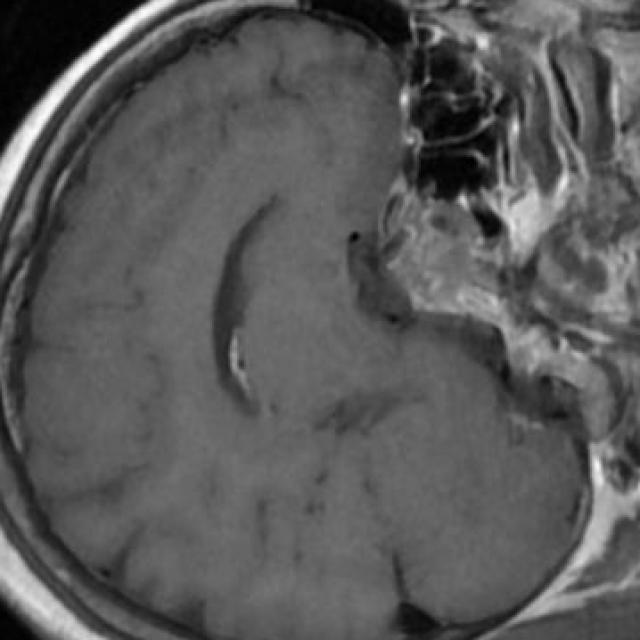pituitary: (385, 176, 501, 326)
